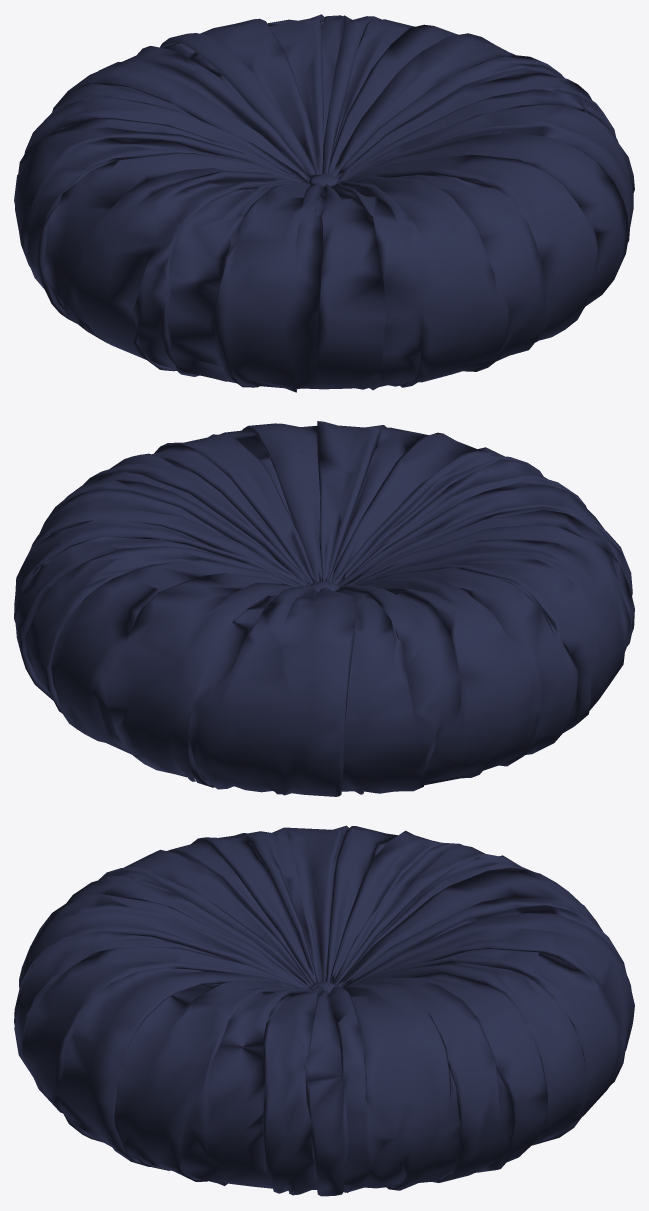
Rendered from SpecularSilkPouf.glb.
The picture shows the model from 3 angles, top to bottom: view 1: azimuth 30°, elevation 25°; view 2: azimuth 150°, elevation 25°; view 3: azimuth 270°, elevation 25°; orthographic projection.
Visible parts, largest first — view 1: SpecularSilkPouf; view 2: SpecularSilkPouf; view 3: SpecularSilkPouf.
Boxes of the visible parts, <box> form: SpecularSilkPouf: <box>14,14,634,392</box>; SpecularSilkPouf: <box>14,421,634,796</box>; SpecularSilkPouf: <box>14,825,634,1196</box>.
Bounding box in the file's own units: 0.6099 × 0.1967 × 0.6097.
